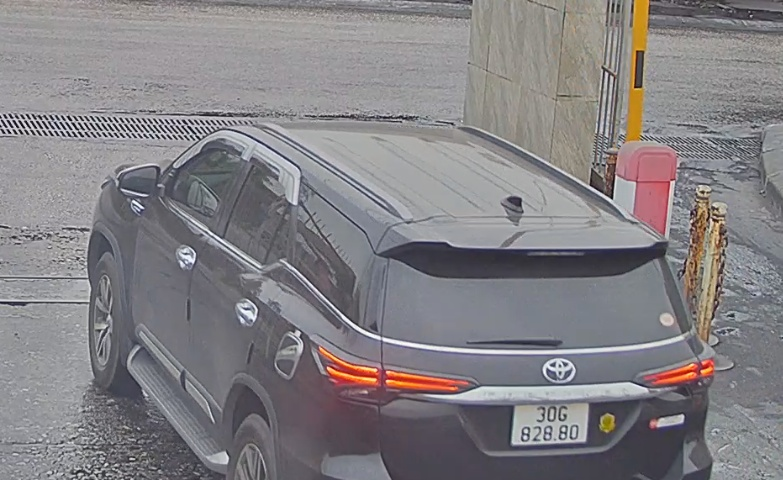vehicle plate: (510, 395, 590, 448)
